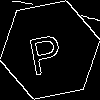P: (25, 25, 65, 76)
